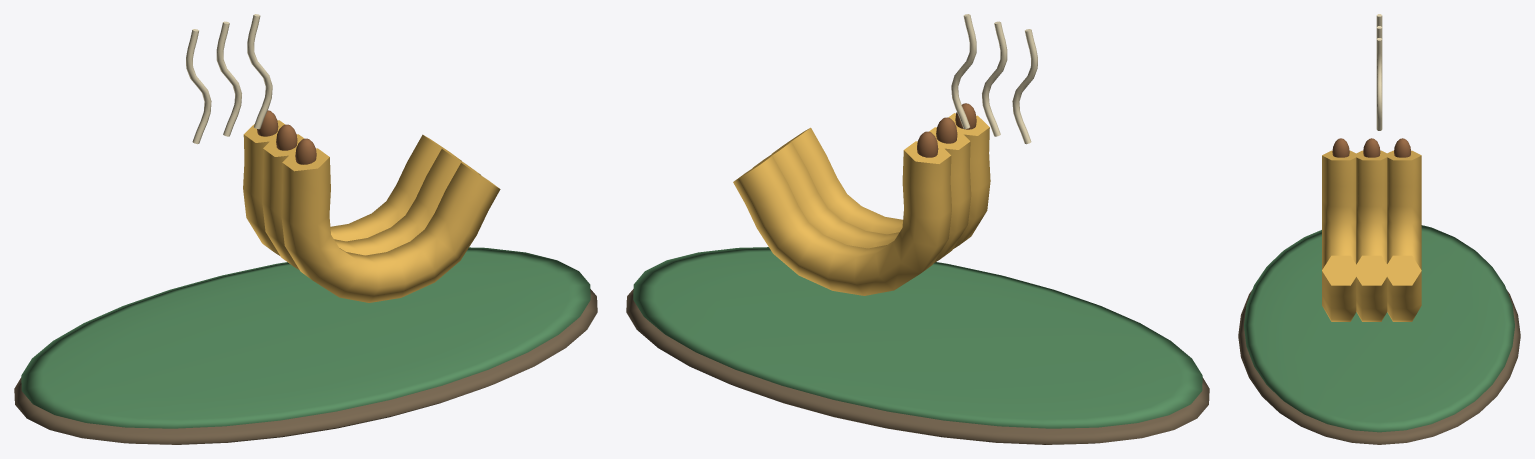
Rendered from fragrant-banana.glb.
3 renders of one model, left to right at view 1: azimuth 30°, elevation 25°; view 2: azimuth 150°, elevation 25°; view 3: azimuth 270°, elevation 25°, orthographic. The views are drawn at different scales.
Parts seen in each view (by area): view 1: fragrant-banana_surface_01, fragrant-banana_surface_03, fragrant-banana_surface_00, fragrant-banana_surface_02, fragrant-banana_surface_04; view 2: fragrant-banana_surface_01, fragrant-banana_surface_03, fragrant-banana_surface_00, fragrant-banana_surface_02, fragrant-banana_surface_04; view 3: fragrant-banana_surface_01, fragrant-banana_surface_03, fragrant-banana_surface_00, fragrant-banana_surface_04, fragrant-banana_surface_02.
Part boxes in pixels (x1=…): fragrant-banana_surface_01: x1=21, y1=247, x2=590, y2=428; fragrant-banana_surface_03: x1=243, y1=120, x2=500, y2=302; fragrant-banana_surface_00: x1=14, y1=289, x2=597, y2=444; fragrant-banana_surface_02: x1=186, y1=14, x2=272, y2=144; fragrant-banana_surface_04: x1=257, y1=110, x2=316, y2=164; fragrant-banana_surface_01: x1=633, y1=247, x2=1202, y2=428; fragrant-banana_surface_03: x1=733, y1=113, x2=990, y2=295; fragrant-banana_surface_00: x1=626, y1=289, x2=1209, y2=444; fragrant-banana_surface_02: x1=951, y1=14, x2=1037, y2=144; fragrant-banana_surface_04: x1=917, y1=103, x2=976, y2=157; fragrant-banana_surface_01: x1=1244, y1=225, x2=1514, y2=432; fragrant-banana_surface_03: x1=1322, y1=150, x2=1421, y2=321; fragrant-banana_surface_00: x1=1238, y1=290, x2=1520, y2=444; fragrant-banana_surface_04: x1=1332, y1=138, x2=1410, y2=157; fragrant-banana_surface_02: x1=1376, y1=14, x2=1382, y2=130.
Size of the model in its own units: 4.56 by 2.84 by 2.5.
